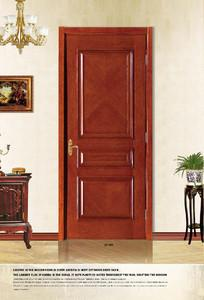door: (64, 34, 147, 239)
